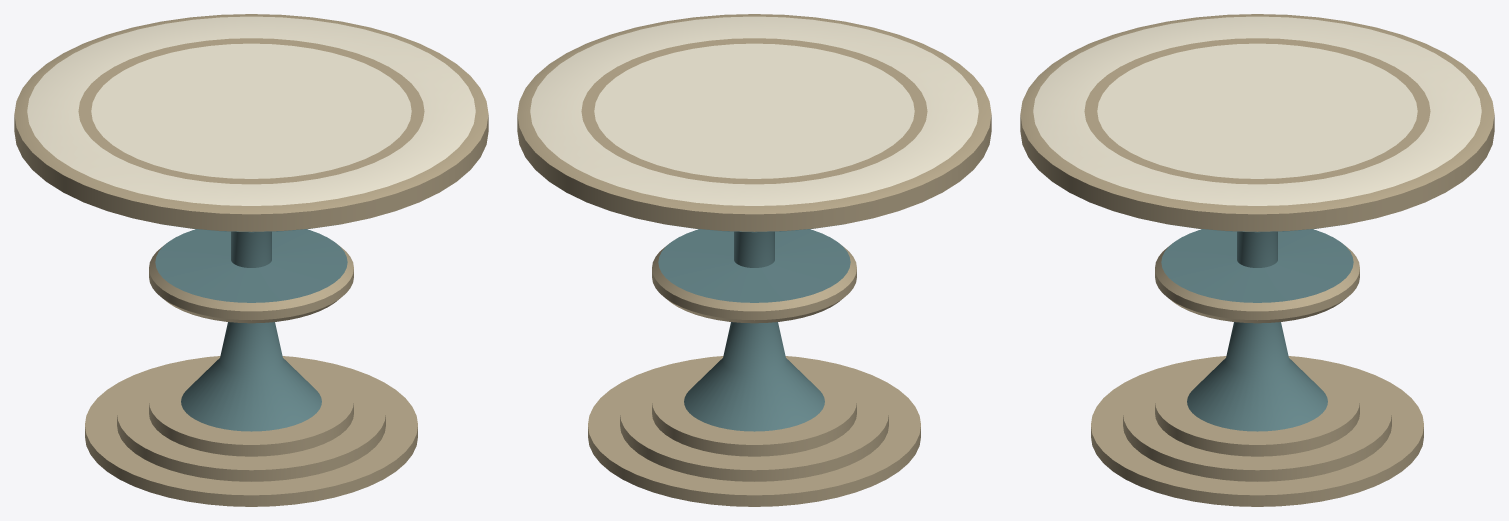
File: KC32__AD_Int_Table_Cocktail.glb
3 renders of one model, left to right at view 1: azimuth 30°, elevation 25°; view 2: azimuth 150°, elevation 25°; view 3: azimuth 270°, elevation 25°, orthographic.
Parts seen in each view (by area): view 1: KC32_LUMIERE__AD_Int_Table_Cocktail, KC32_BRONZE__AD_Int_Table_Cocktail, KC32_CORPS__AD_Int_Table_Cocktail; view 2: KC32_LUMIERE__AD_Int_Table_Cocktail, KC32_BRONZE__AD_Int_Table_Cocktail, KC32_CORPS__AD_Int_Table_Cocktail; view 3: KC32_LUMIERE__AD_Int_Table_Cocktail, KC32_BRONZE__AD_Int_Table_Cocktail, KC32_CORPS__AD_Int_Table_Cocktail.
Part boxes in pixels (x1,y1,x2,y2): KC32_LUMIERE__AD_Int_Table_Cocktail: (27,16,475,205); KC32_BRONZE__AD_Int_Table_Cocktail: (14,14,488,506); KC32_CORPS__AD_Int_Table_Cocktail: (155,224,347,431); KC32_LUMIERE__AD_Int_Table_Cocktail: (530,16,978,205); KC32_BRONZE__AD_Int_Table_Cocktail: (517,14,991,506); KC32_CORPS__AD_Int_Table_Cocktail: (658,224,850,431); KC32_LUMIERE__AD_Int_Table_Cocktail: (1033,16,1481,205); KC32_BRONZE__AD_Int_Table_Cocktail: (1020,14,1494,506); KC32_CORPS__AD_Int_Table_Cocktail: (1161,224,1353,431).
Bounding box in the file's own units: 0.74 × 0.56 × 0.74.
